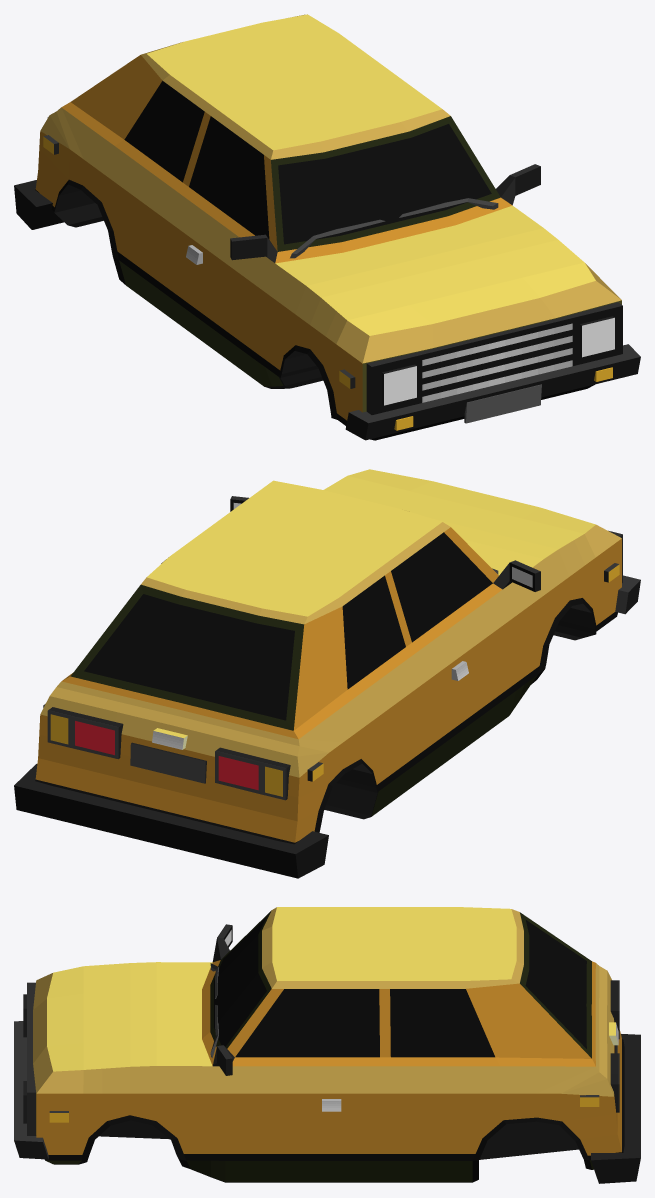
File: Coupe.004.fbx
3 views of the same model, one above another, from view 1: azimuth 30°, elevation 25°; view 2: azimuth 150°, elevation 25°; view 3: azimuth 270°, elevation 25° (orthographic). The views are drawn at different scales.
Parts seen in each view (by area): view 1: Coupe.004; view 2: Coupe.004; view 3: Coupe.004.
Part boxes in pixels (x1,y1,x2,y2): Coupe.004: (14, 14, 640, 440); Coupe.004: (14, 469, 640, 878); Coupe.004: (14, 907, 640, 1183).
Size of the model in its own units: 1.75 by 1.14 by 3.44.
